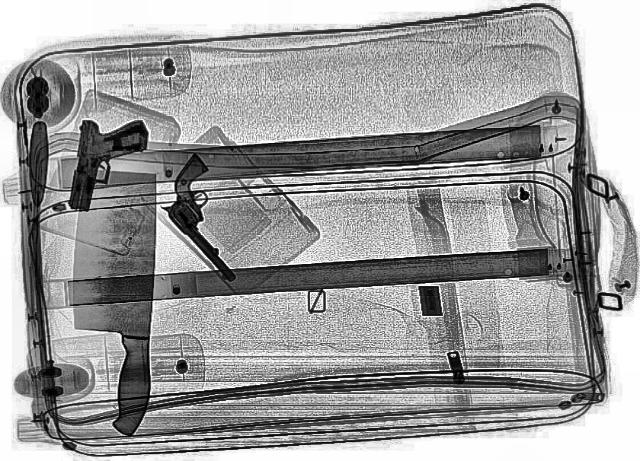Gun: (128, 152, 296, 282), (64, 116, 152, 214)
Knife: (63, 169, 159, 437), (25, 121, 47, 391)
